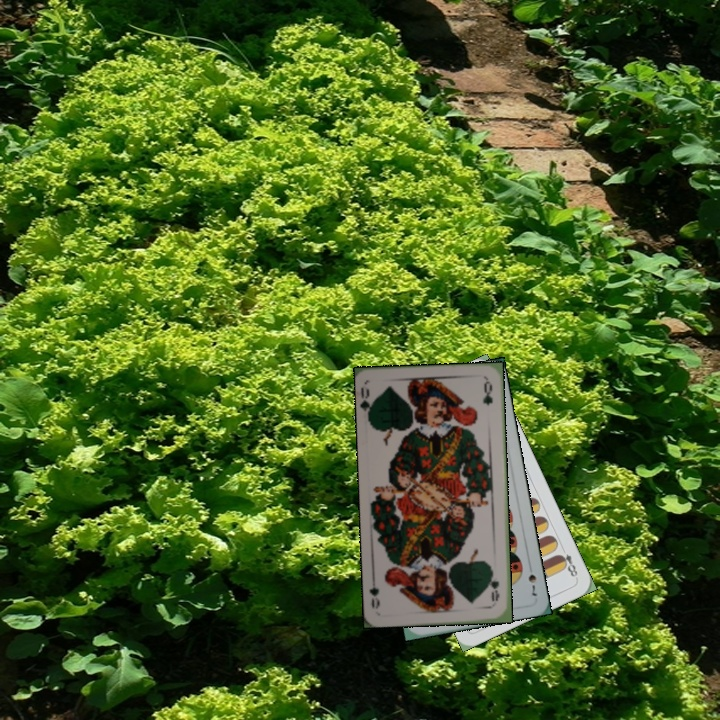E8: (554, 542, 580, 581)
GO: (358, 384, 378, 423), (486, 566, 502, 604)
S7: (524, 570, 541, 599)
